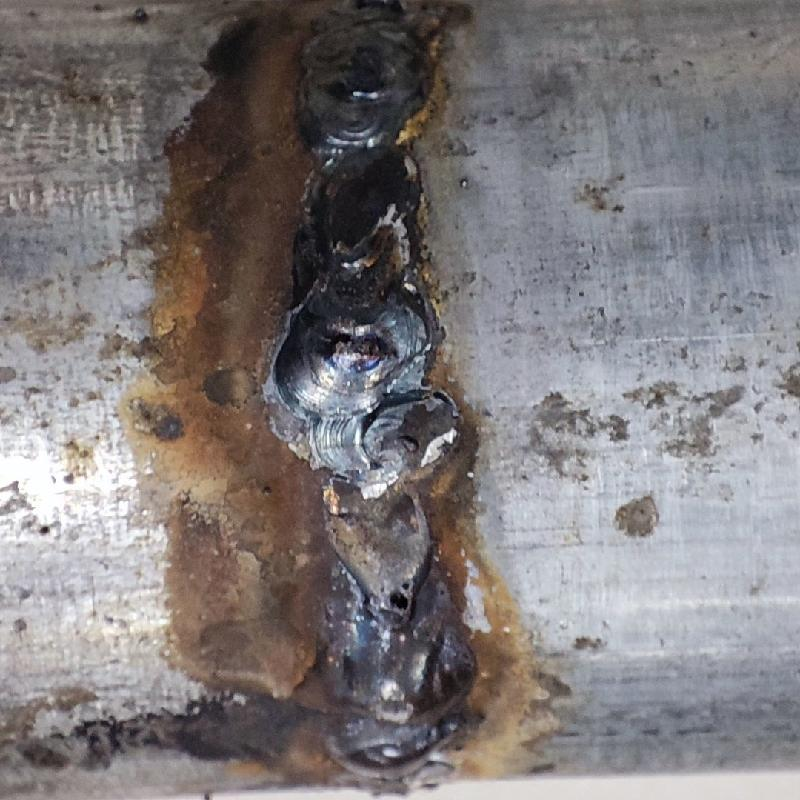Not_fully_soldered: (286, 408, 439, 623)
Surface_pores: (363, 573, 423, 619)
Weld: (300, 621, 472, 781)
